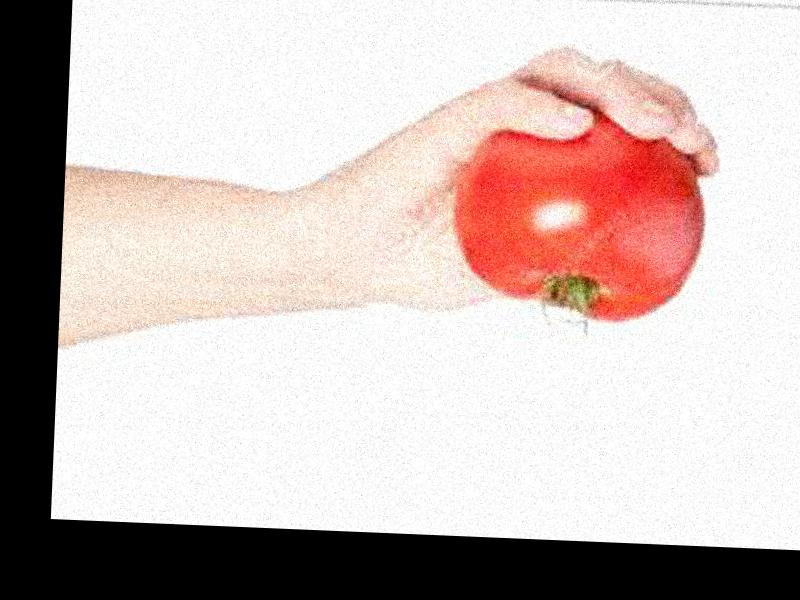Tomato: (446, 106, 708, 327)
